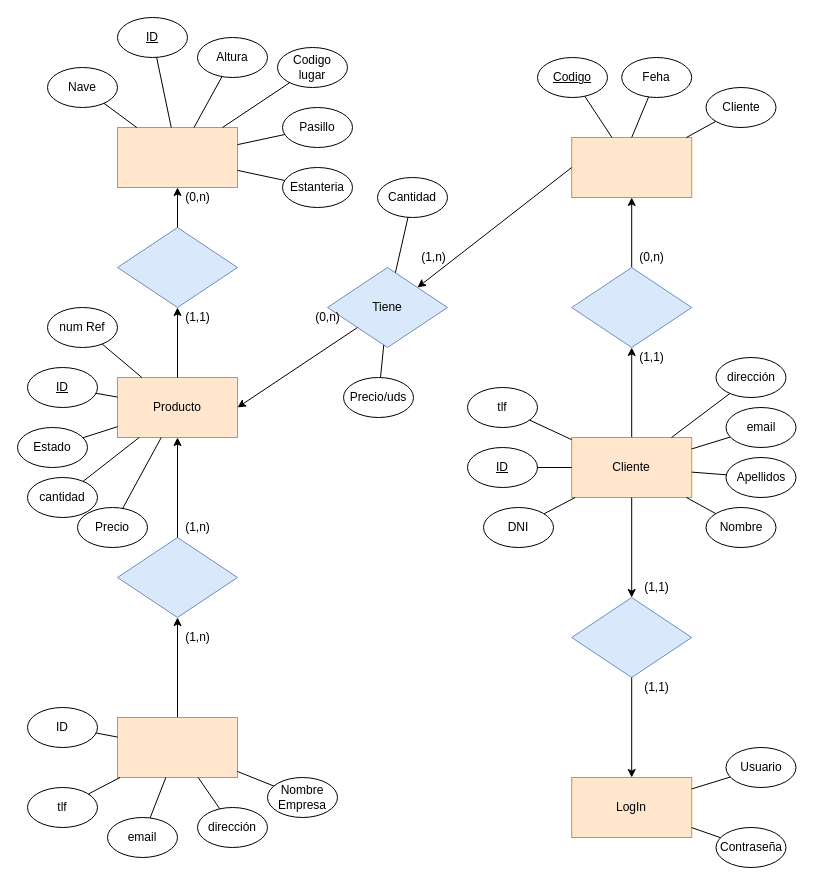
The diagram is 814 pixels wide and 885 high, and some of its shapes have lost their labels. The centre of each missing label's shape, as x and y in pixels:
"Almacen" goes at point (177, 157).
"Compra" goes at point (631, 307).
"Localiza" goes at point (177, 267).
"Produce" goes at point (177, 577).
"Productor" goes at point (177, 747).
"Registra" goes at point (631, 637).
"Venta" goes at point (631, 167).
